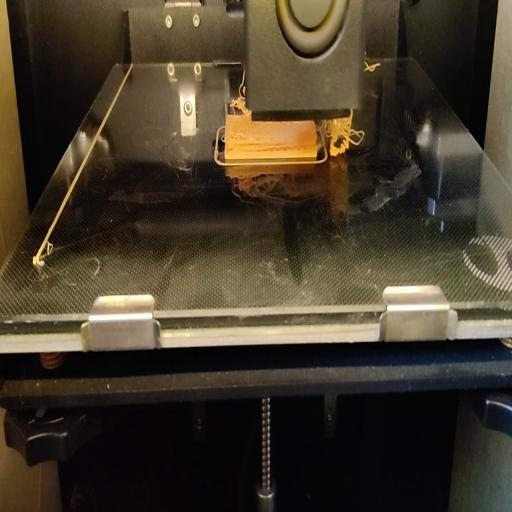spaghetti: (328, 114, 362, 160), (232, 73, 246, 132)
